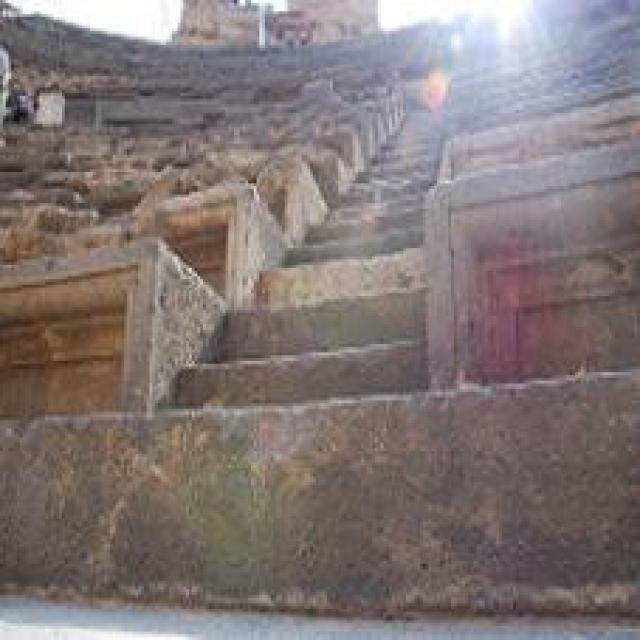upstair: (185, 167, 419, 393)
